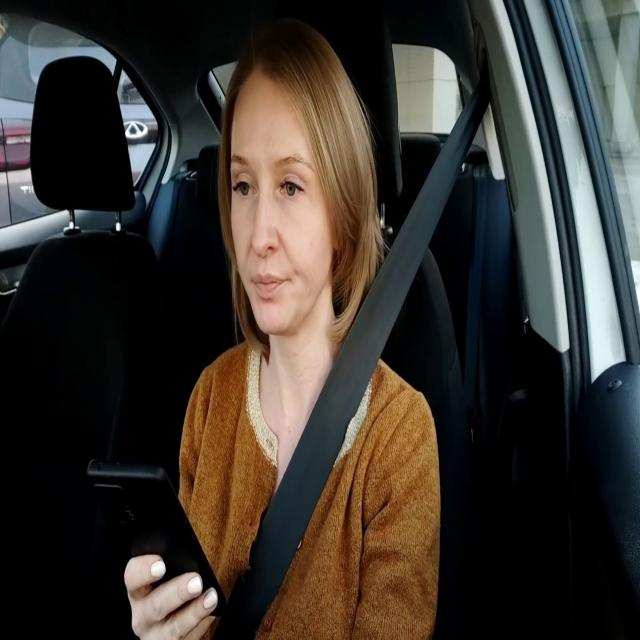phone: (86, 455, 230, 619)
